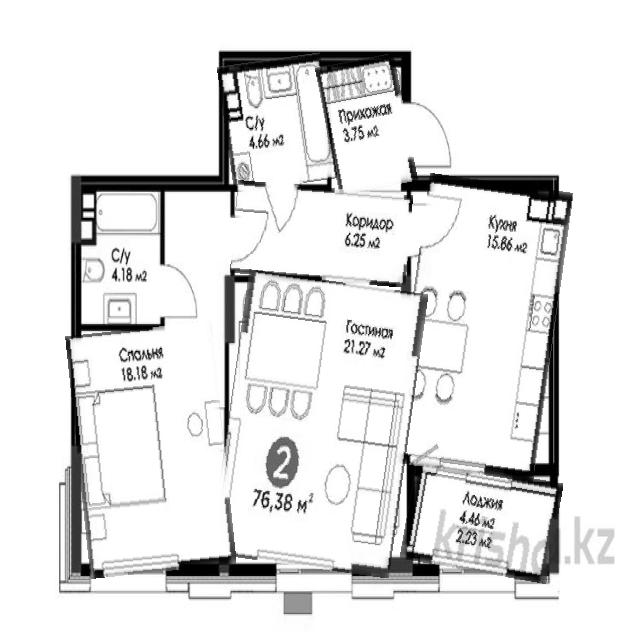balcony: (403, 464, 560, 578)
bathroom: (221, 56, 333, 189), (75, 182, 164, 331)
hallway: (232, 184, 412, 283), (321, 56, 413, 192)
kitchen: (399, 177, 564, 478)
living_room: (218, 274, 419, 573), (71, 324, 230, 576)
